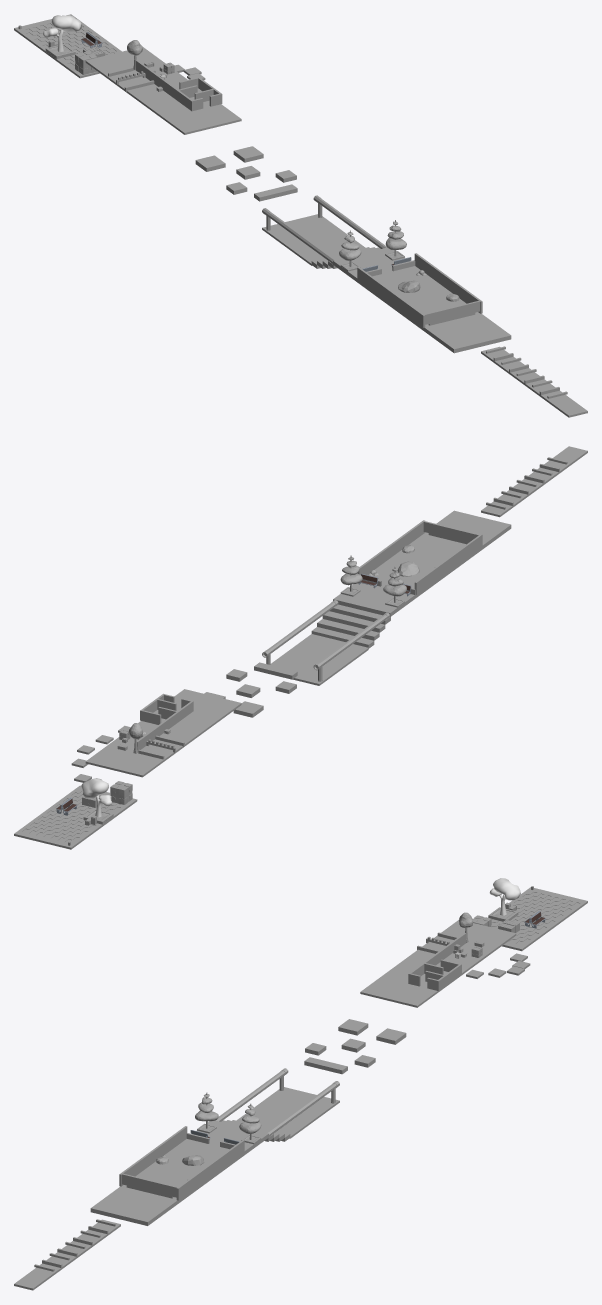
File: TestSceneUpdated.fbx
3 renders of one model, top to bottom at view 1: azimuth 30°, elevation 25°; view 2: azimuth 150°, elevation 25°; view 3: azimuth 330°, elevation 25°, orthographic.
Visible parts, largest first — view 1: Garden_Platform, Platform2, Construction_Sight_Platform, Start_Platform, Final_Sprint_Platform, pCube57, pCube58, pCube18, pCube62, Tree_Start, Pipe_Right, Pipe_Left; view 2: Garden_Platform, Platform2, Start_Platform, Construction_Sight_Platform, Final_Sprint_Platform, pCube57, pCube58, pCube18, pCube62, Pipe_Right, Pipe_Left, Tree_Start (+2 smaller); view 3: Garden_Platform, Platform2, Start_Platform, Construction_Sight_Platform, Final_Sprint_Platform, pCube58, pCube57, pCube62, pCube18, Pipe_Left.
Boxes of the visible parts, x1,y1,x2,y2 form: Garden_Platform: (333,247,511,353); Platform2: (85,47,241,134); Construction_Sight_Platform: (262,214,365,265); Start_Platform: (14,14,121,78); Final_Sprint_Platform: (481,346,587,417); pCube57: (357,267,425,327); pCube58: (414,253,482,313); pCube18: (135,60,193,111); pCube62: (424,300,479,324); Tree_Start: (43,15,81,37); Pipe_Right: (262,208,336,263); Pipe_Left: (313,195,386,248); Garden_Platform: (333,510,511,616); Platform2: (85,689,241,777); Start_Platform: (14,785,137,849); Construction_Sight_Platform: (270,634,368,685); Final_Sprint_Platform: (481,446,587,517); pCube57: (414,534,482,594); pCube58: (357,520,424,574); pCube18: (136,701,193,751); pCube62: (423,521,479,542); Pipe_Right: (313,612,389,670); Pipe_Left: (262,600,338,657); Tree_Start: (81,778,112,805); Garden_Platform: (90,1120,268,1225); Platform2: (360,920,516,1007); Start_Platform: (491,887,587,951); Construction_Sight_Platform: (236,1087,339,1138); Final_Sprint_Platform: (14,1219,120,1290); pCube58: (176,1140,244,1200); pCube57: (119,1126,187,1186); pCube62: (121,1173,177,1197); pCube18: (408,933,466,983); Pipe_Left: (265,1081,339,1136).
Bounding box in the file's own units: 48.84 × 34.6 × 487.
